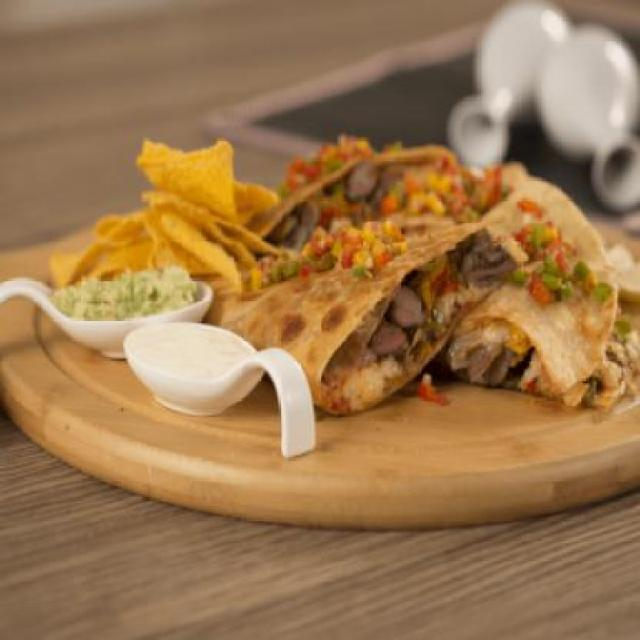chicken quesadilla: (243, 130, 639, 441)
guacamole: (48, 260, 208, 329)
nachos: (52, 118, 302, 311)
